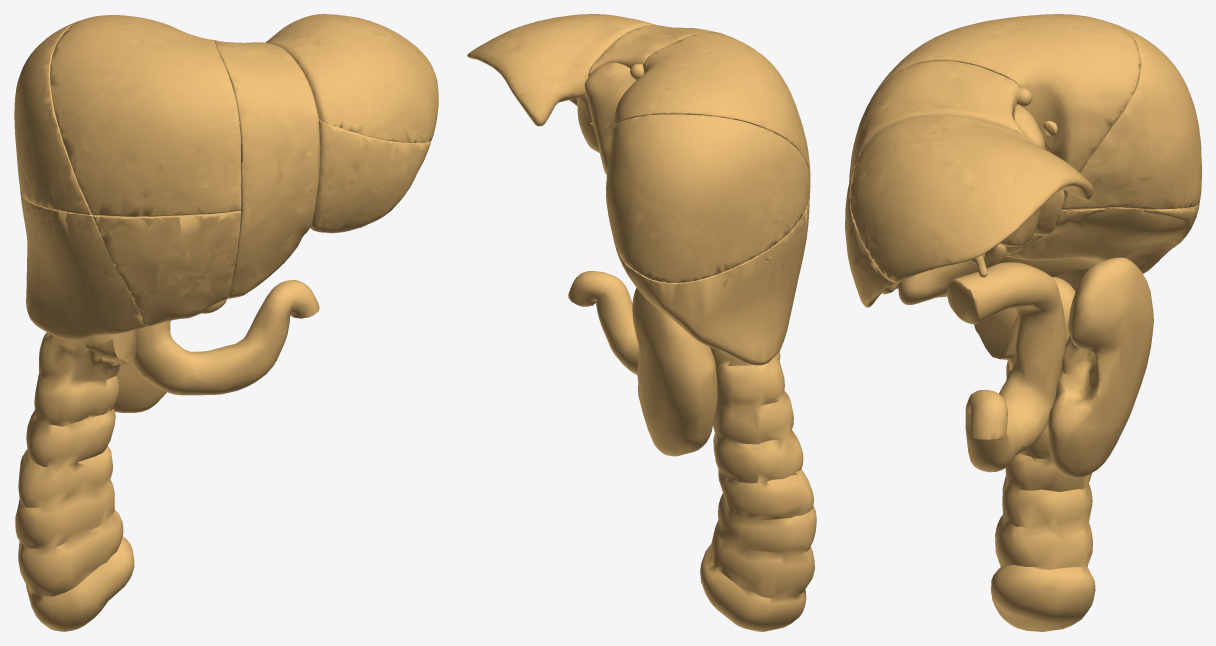
Rendered from hipocondrio-direito.glb.
3 views of the same model, side by side, from view 1: azimuth 30°, elevation 25°; view 2: azimuth 150°, elevation 25°; view 3: azimuth 270°, elevation 25° (orthographic). The views are drawn at different scales.
Visible parts, largest first — view 1: figado, colon-ascendente, duodeno, rim-direito; view 2: figado, colon-ascendente, rim-direito, duodeno; view 3: figado, colon-ascendente, rim-direito, duodeno, vesicula-biliar.
Boxes of the visible parts, x1=… form: figado: x1=14, y1=14, x2=438, y2=339; colon-ascendente: x1=15, y1=330, x2=136, y2=631; duodeno: x1=132, y1=280, x2=319, y2=395; rim-direito: x1=113, y1=362, x2=166, y2=412; figado: x1=467, y1=14, x2=810, y2=365; colon-ascendente: x1=700, y1=347, x2=816, y2=631; rim-direito: x1=632, y1=288, x2=717, y2=456; duodeno: x1=568, y1=271, x2=638, y2=374; figado: x1=845, y1=14, x2=1201, y2=307; colon-ascendente: x1=974, y1=276, x2=1095, y2=631; rim-direito: x1=1048, y1=257, x2=1153, y2=478; duodeno: x1=947, y1=262, x2=1065, y2=472; vesicula-biliar: x1=898, y1=244, x2=1006, y2=304.
Size of the model in its own units: 0.2211 by 0.3148 by 0.159.
